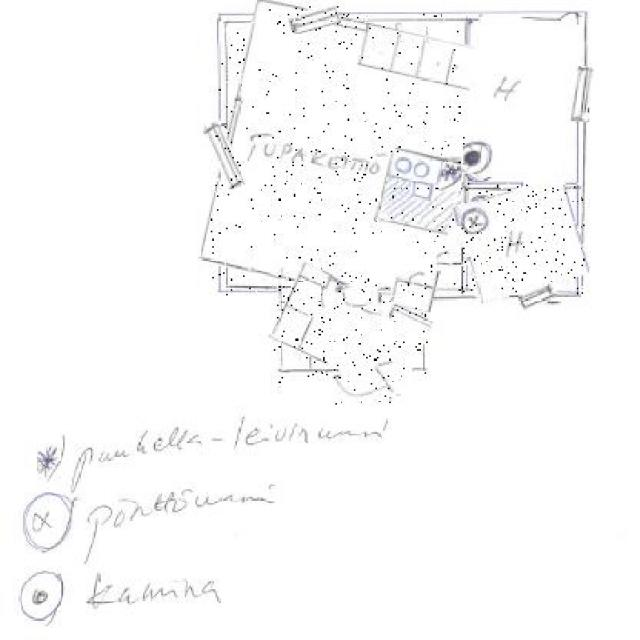door: (334, 364, 398, 404), (335, 286, 391, 309), (437, 254, 452, 272)
window: (209, 120, 240, 189), (288, 6, 340, 32), (574, 66, 592, 122), (520, 285, 557, 309)
zone: (211, 9, 477, 300), (466, 17, 580, 183), (272, 274, 428, 384), (457, 183, 585, 295)
